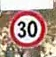limite 30: (7, 9, 47, 49)
